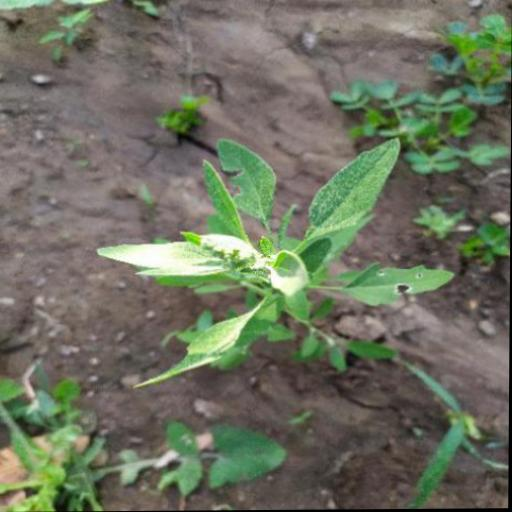weed: (92, 129, 463, 413)
